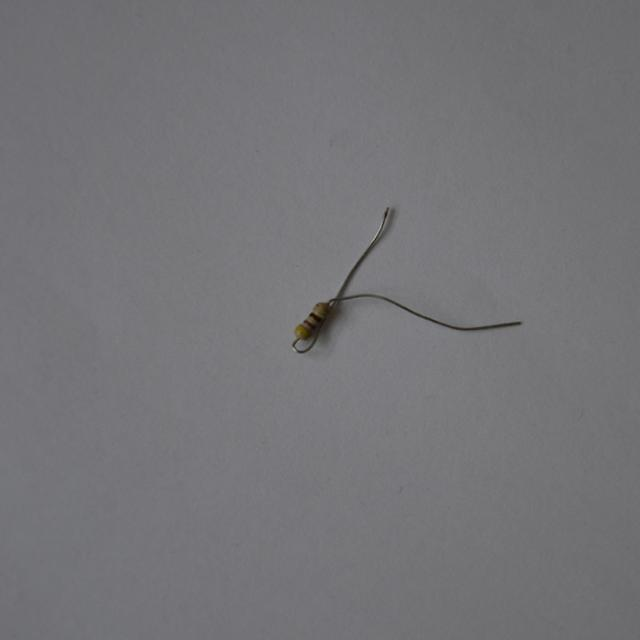brown: (309, 312, 322, 321)
gold: (314, 303, 327, 313)
resistor: (286, 292, 337, 349)
violet: (301, 319, 315, 328)
yellow: (295, 327, 312, 337)
